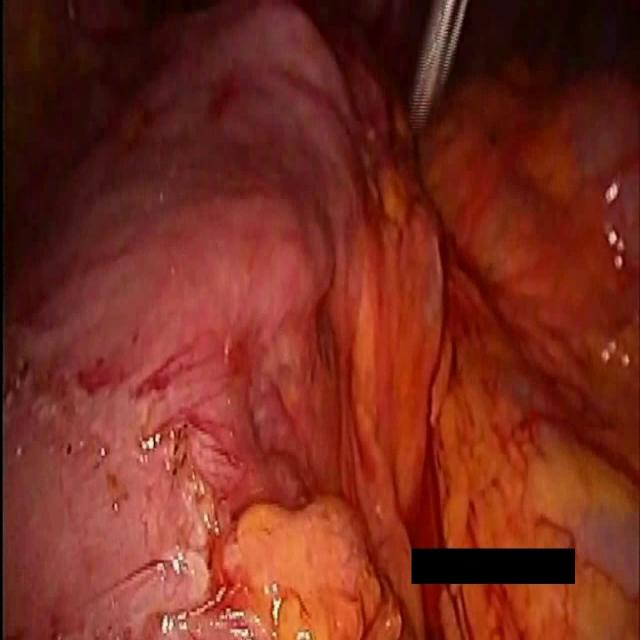surgical-area: (0, 0, 640, 639)
surgical-tool: (412, 0, 471, 136)
